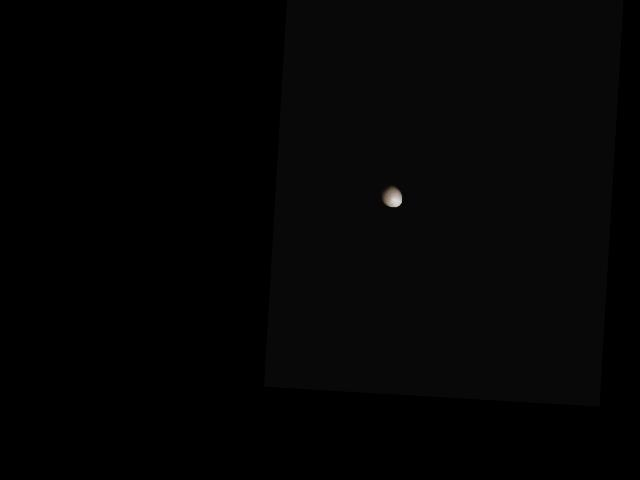egg: (379, 183, 403, 207)
